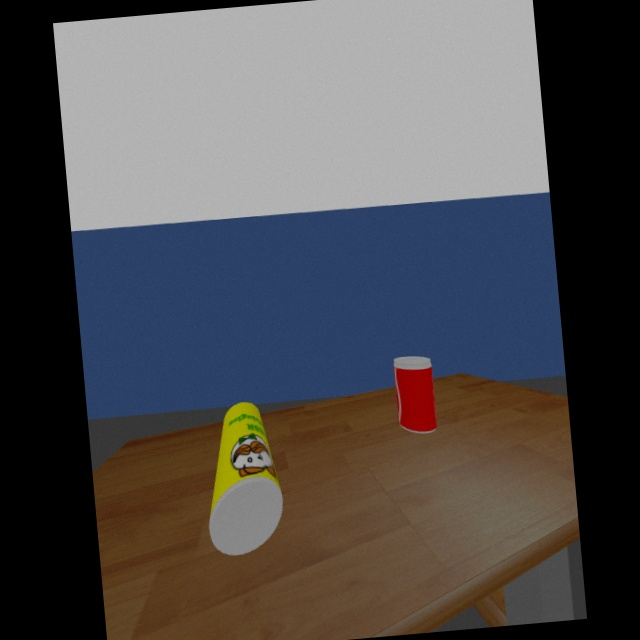chipsdose_gelb: (209, 402, 283, 556)
